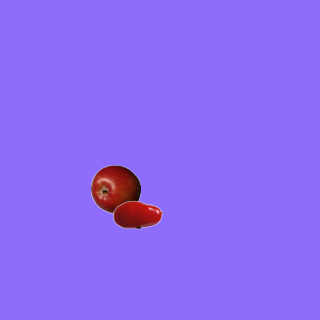Apple Braeburn: (90, 164, 140, 214)
Tomato 2: (112, 189, 162, 239)
